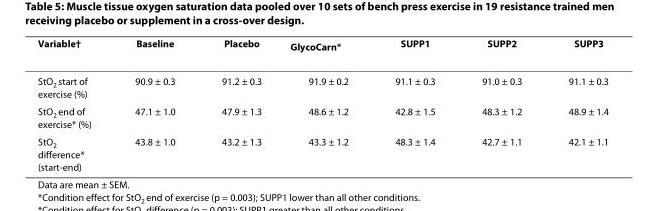table: (36, 36, 608, 172)
table column: (275, 36, 371, 172), (457, 36, 544, 172), (371, 36, 457, 172), (112, 36, 197, 172), (197, 36, 275, 172), (36, 36, 112, 172), (544, 36, 608, 172)
table column header: (36, 36, 608, 63)
table row: (36, 132, 608, 172), (36, 63, 608, 101), (36, 101, 608, 132), (36, 36, 608, 63)
